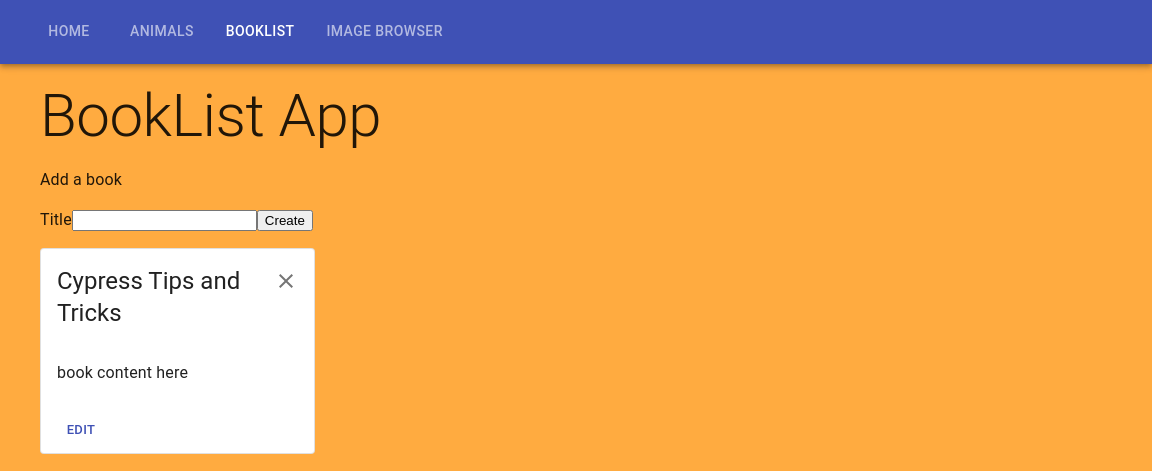
Scenario: booklist app › should verify the Save book functionality
This screenshot has width=1152, height=471.
Expected: the heading "BookList App" is shown, [40,80,381,151]
Expected: the element with test id "card-1" shows "Cypress Tips and Tricks", [40,248,315,454]
Click the button "Edit" at (81, 431), box [49,415,113,446]
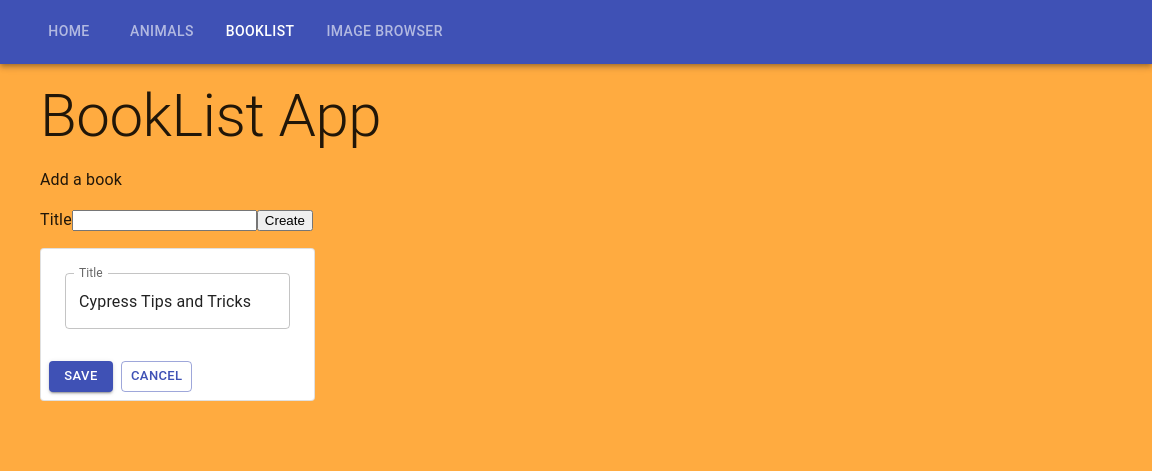
Result: the 2nd field labelled "Title" holds "Cypress Tips and Tricks"
Replace the text in the 2nd field labelled "Title" with "Another Tale" at (178, 301), box [65,273,290,329]
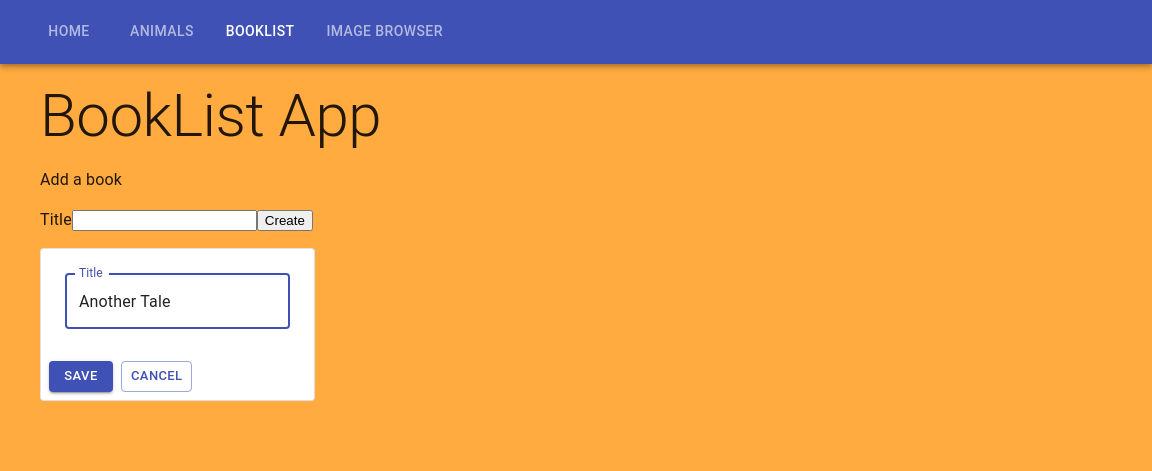
Click the button "Save" at (81, 377), box [49,361,113,392]
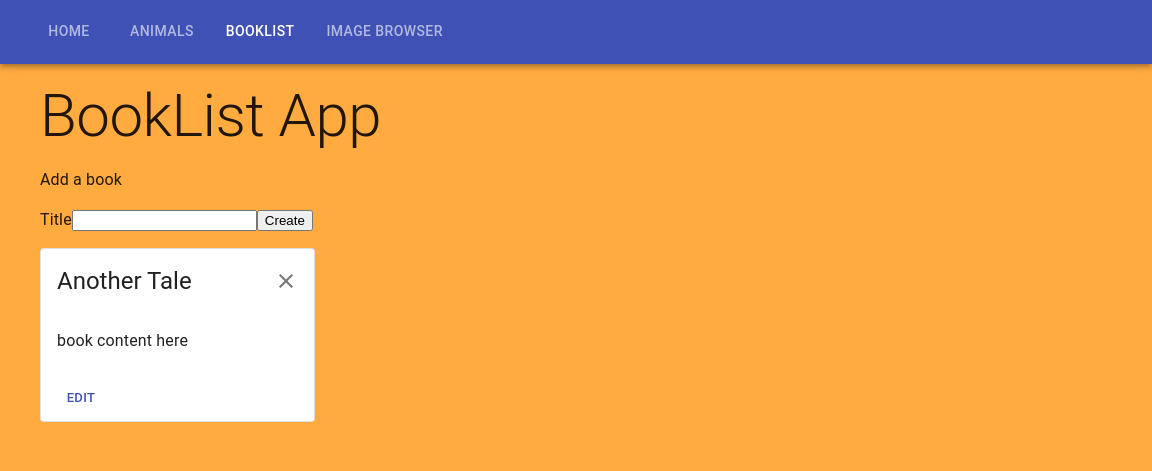
Result: the text with test id "card-1" does not show "Cypress Tips and Tricks"
Result: the element with test id "edit-card-1" is gone
Result: the element with test id "card-1" shows "Another Tale" at [40,248,315,422]
